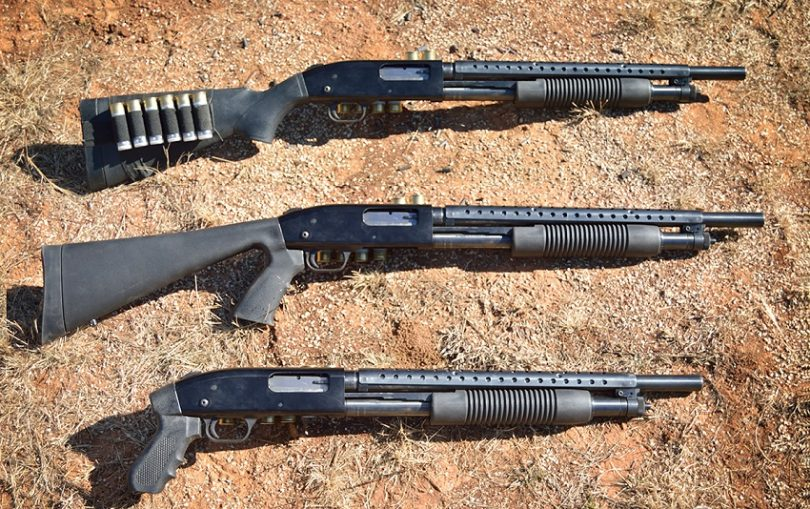Gun: (185, 340, 680, 476), (248, 190, 721, 299), (221, 53, 711, 151)
